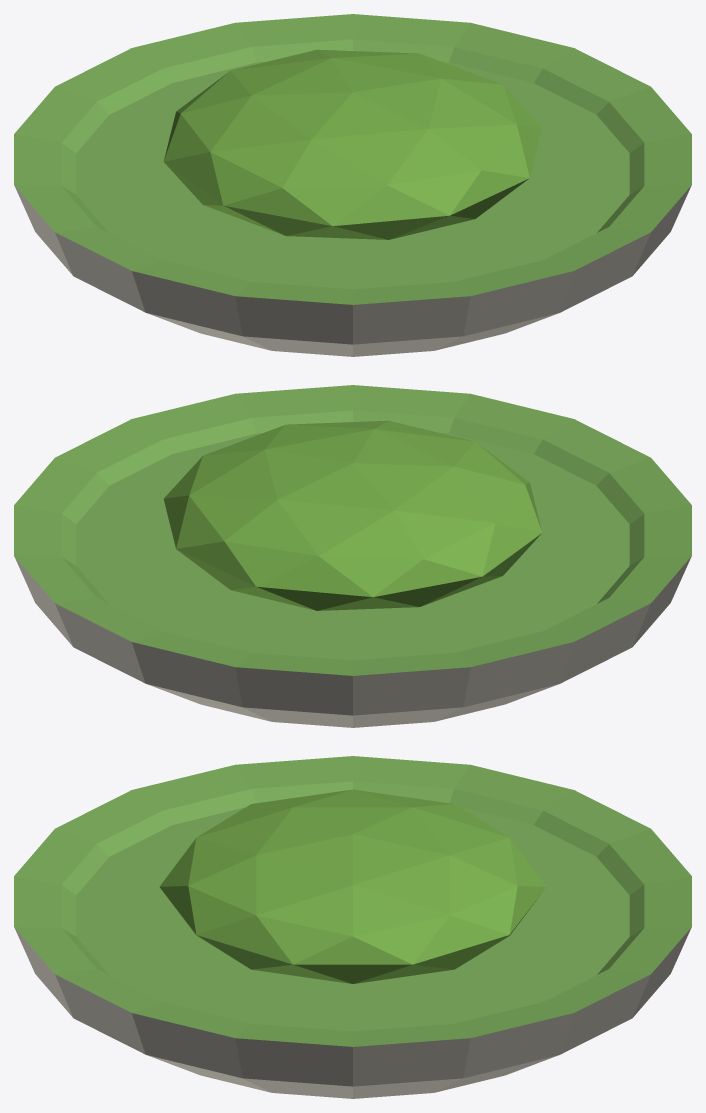
Rendered from Seafood_Salad.glb.
3 views of the same model, one above another, from view 1: azimuth 30°, elevation 25°; view 2: azimuth 150°, elevation 25°; view 3: azimuth 270°, elevation 25° (orthographic).
Parts seen in each view (by area): view 1: _I_SeafoodSalad; view 2: _I_SeafoodSalad; view 3: _I_SeafoodSalad.
Part boxes in pixels (left/top/right/bottom): _I_SeafoodSalad: left=14, top=14, right=691, bottom=356; _I_SeafoodSalad: left=14, top=385, right=691, bottom=727; _I_SeafoodSalad: left=14, top=756, right=691, bottom=1098.
Size of the model in its own units: 0.64 by 0.189 by 0.6303.
